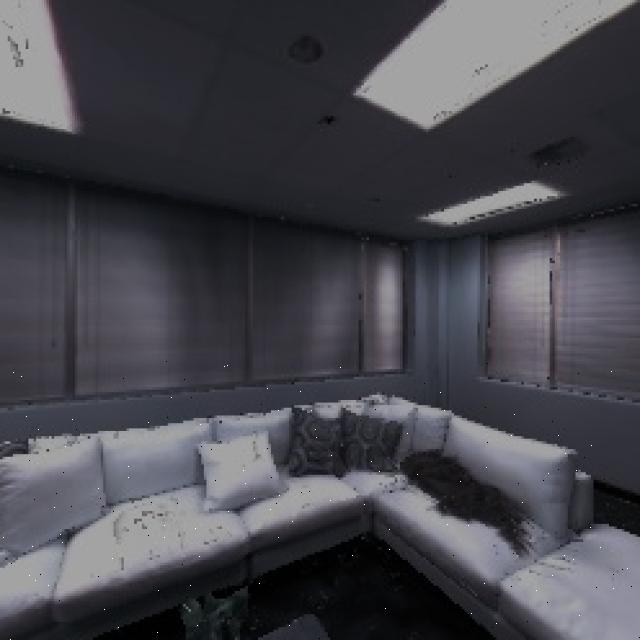sofa: (0, 361, 640, 640)
